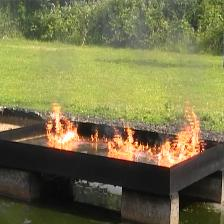fire: (107, 101, 207, 167), (46, 101, 84, 150), (86, 127, 108, 143)
